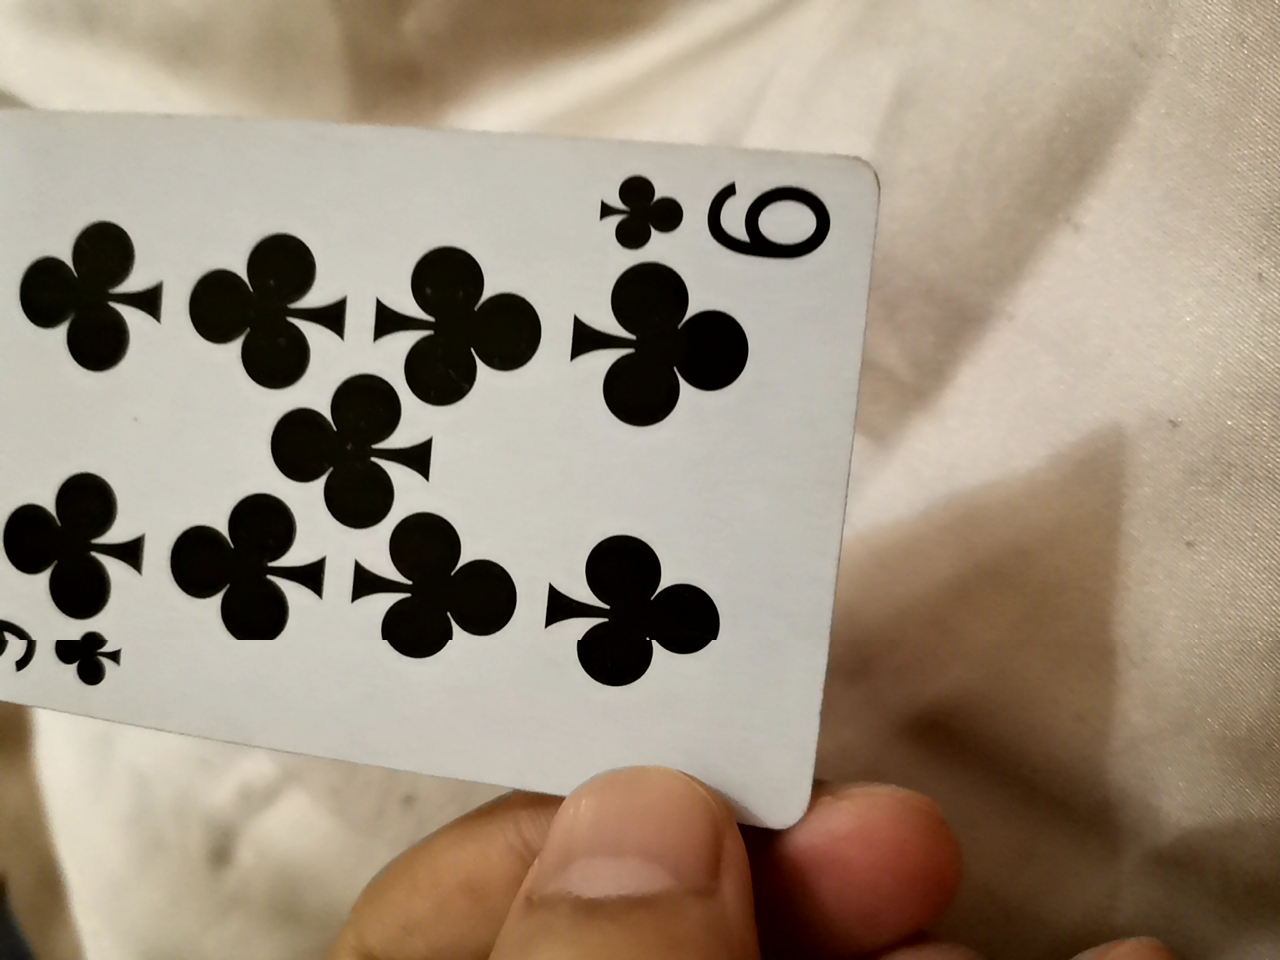mh 9: (0, 128, 867, 845)
